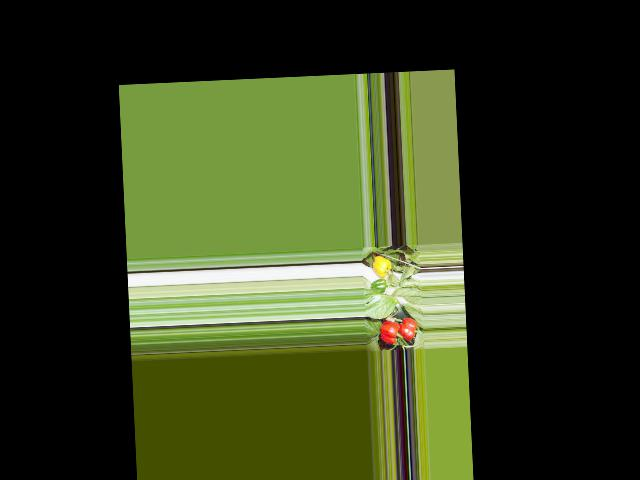bell_pepper: (370, 253, 392, 278)
